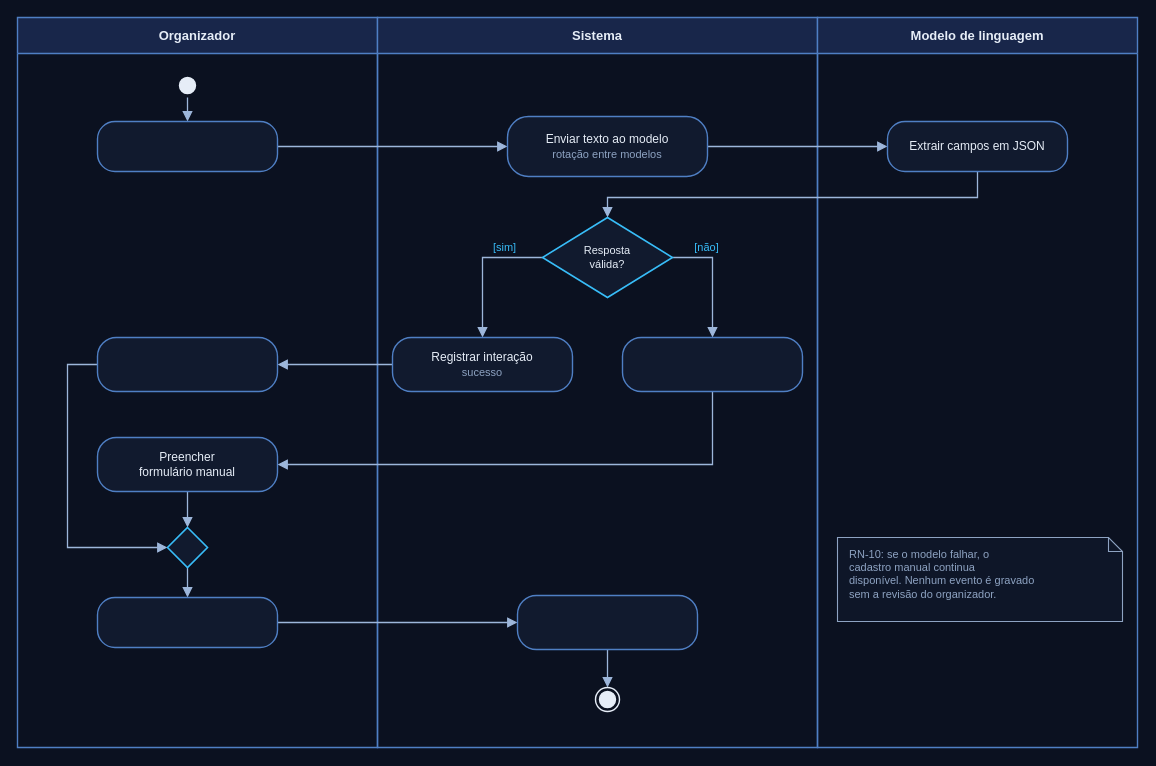
The diagram is 1156 pixels wide and 766 high, and some of its shapes have lost their labels. Each missing label, with the centre of its shape:
Colar o texto do evento: the point at 187,146
Gravar evento situação RASCUNHO: the point at 607,622
Registrar interação falha · responde 503: the point at 712,364
Revisar campos sugeridos: the point at 187,364
Salvar evento: the point at 187,622
